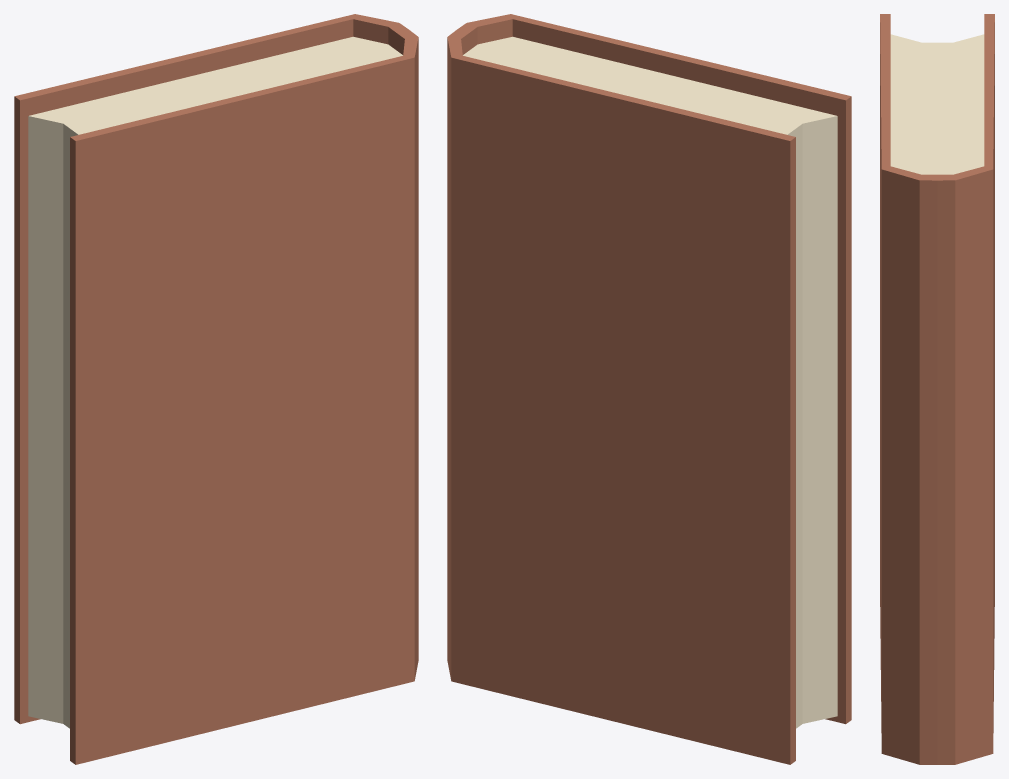
Rendered from Book_10.fbx.
3 views of the same model, side by side, from view 1: azimuth 30°, elevation 25°; view 2: azimuth 150°, elevation 25°; view 3: azimuth 270°, elevation 25° (orthographic). The views are drawn at different scales.
Visible parts, largest first — view 1: Plane.225; view 2: Plane.225; view 3: Plane.225.
Boxes of the visible parts, box(x1,y1,x2,y2) form: Plane.225: box(14, 14, 418, 764); Plane.225: box(447, 14, 851, 764); Plane.225: box(880, 14, 994, 764).
Bounding box in the file's own units: 0.3167 × 0.0922 × 0.5182.
